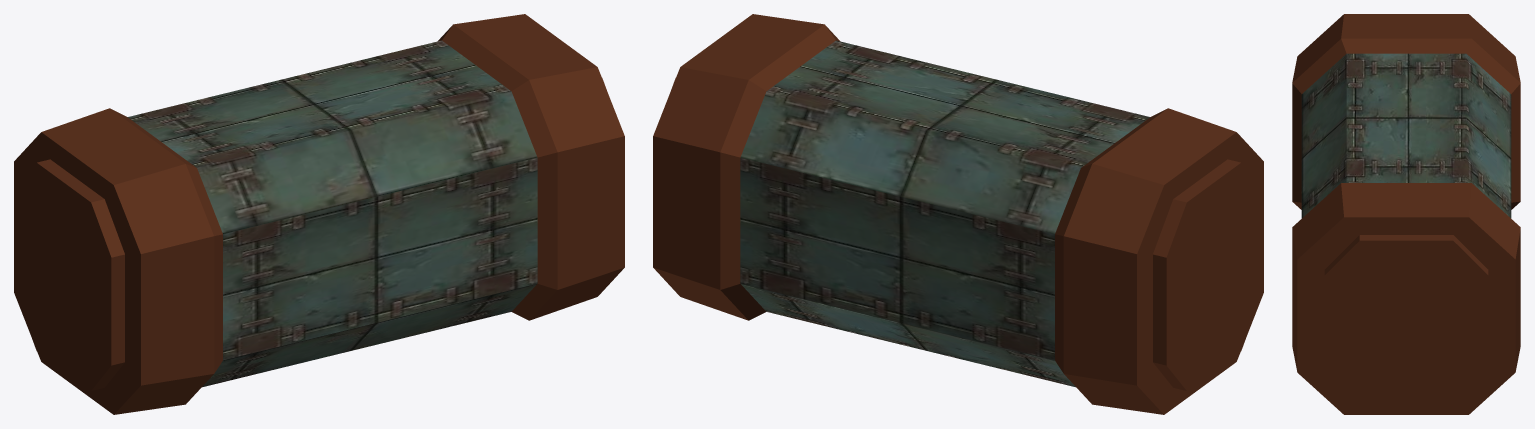
3 views of the same model, side by side, from view 1: azimuth 30°, elevation 25°; view 2: azimuth 150°, elevation 25°; view 3: azimuth 270°, elevation 25° (orthographic). The views are drawn at different scales.
Visible parts, largest first — view 1: Cube.003; view 2: Cube.003; view 3: Cube.003.
Part boxes in pixels (bbox=[...]): Cube.003: bbox=[14, 14, 624, 414]; Cube.003: bbox=[653, 14, 1263, 414]; Cube.003: bbox=[1292, 14, 1520, 414].
Size of the model in its own units: 466 by 210 by 210.
2 materials, 1 textured.
